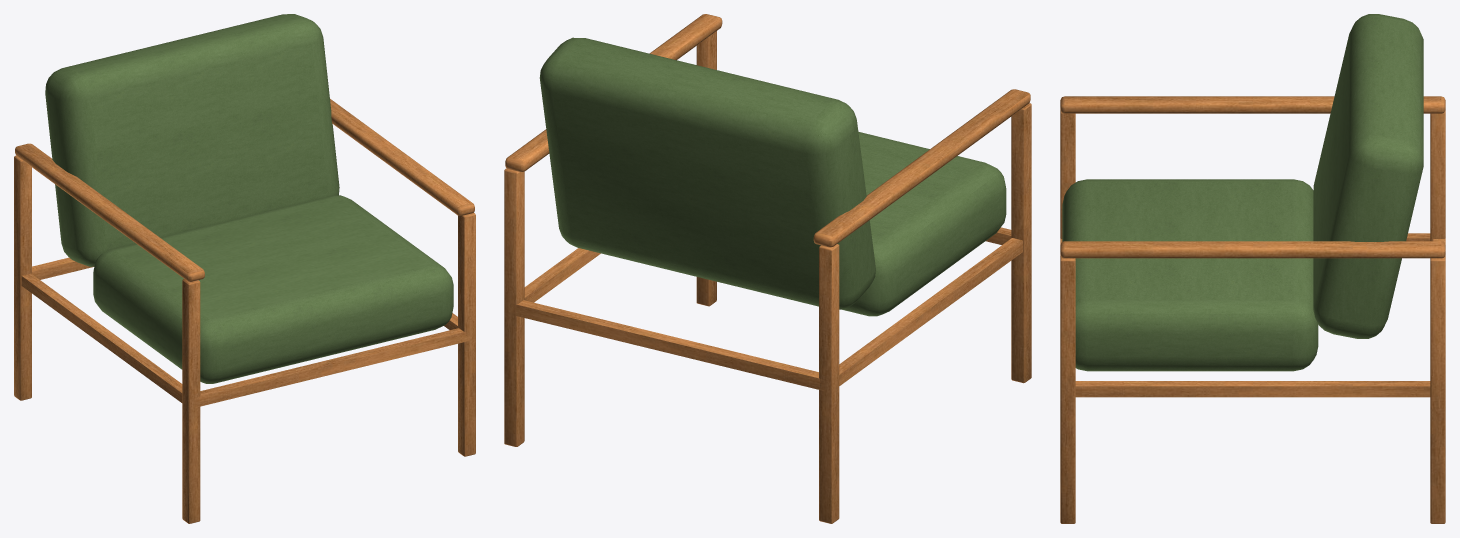
The model's file is lounge.accent-chair-light.glb.
3 renders of one model, left to right at view 1: azimuth 30°, elevation 25°; view 2: azimuth 150°, elevation 25°; view 3: azimuth 270°, elevation 25°, orthographic. The views are drawn at different scales.
Visible parts, largest first — view 1: lounge.accent-chair-light.001; view 2: lounge.accent-chair-light.001; view 3: lounge.accent-chair-light.001.
Part boxes in pixels (box(x1,y1,x2,y2)): lounge.accent-chair-light.001: box(14, 14, 475, 523); lounge.accent-chair-light.001: box(504, 14, 1031, 523); lounge.accent-chair-light.001: box(1060, 14, 1445, 523).
Bounding box in the file's own units: 0.72 × 0.8099 × 0.76.
2 materials, 2 textured.
